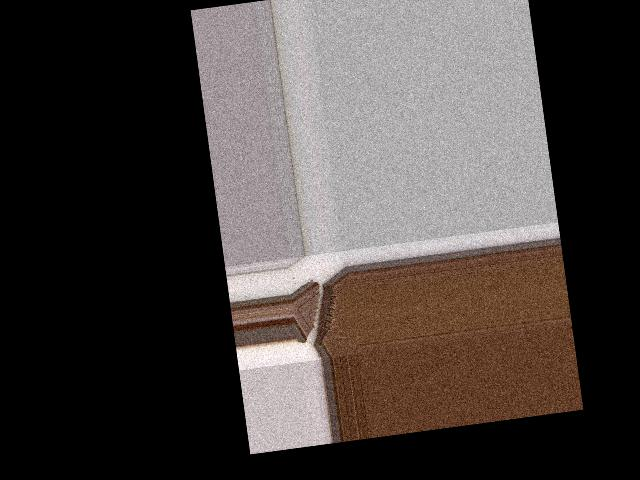chocolate: (287, 265, 356, 361)
